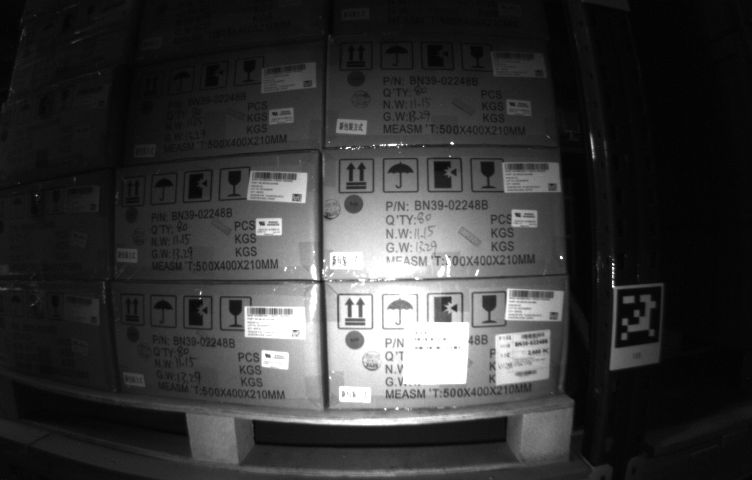True Barcode: (494, 329, 551, 385)
